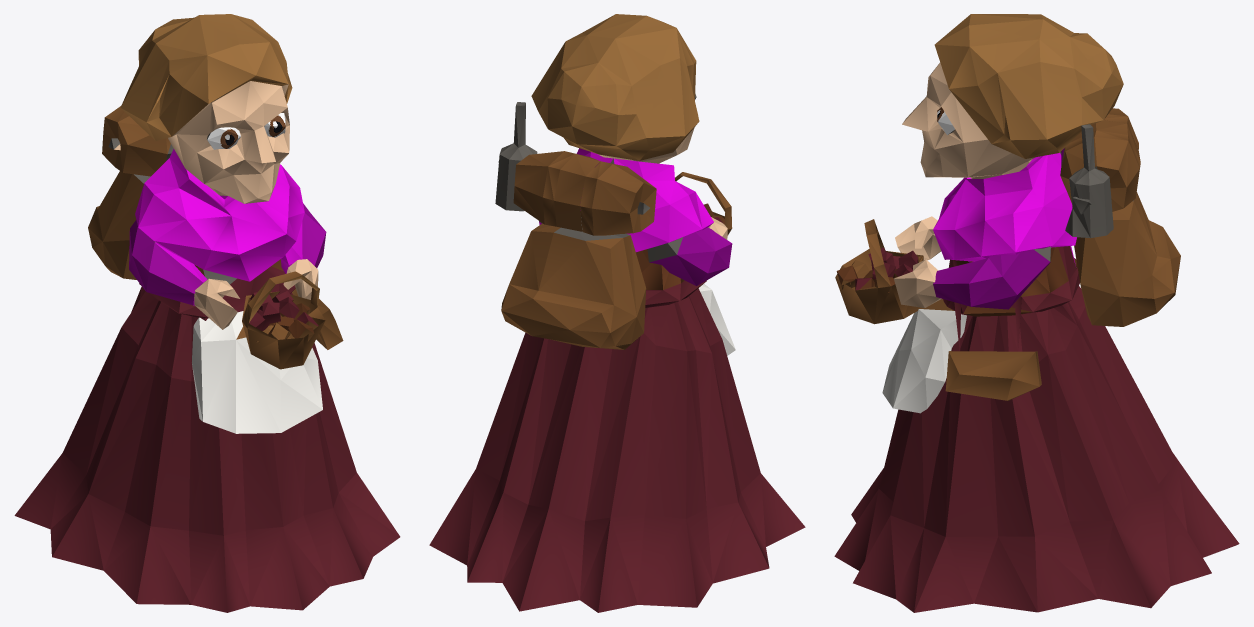
The model's file is castanyera-nova.glb.
The picture shows the model from 3 angles, left to right: view 1: azimuth 30°, elevation 25°; view 2: azimuth 150°, elevation 25°; view 3: azimuth 270°, elevation 25°; orthographic projection. The views are drawn at different scales.
Parts seen in each view (by area): view 1: castanyera; view 2: castanyera; view 3: castanyera.
Part boxes in pixels (<box>): castanyera: <box>14,14,400,612</box>; castanyera: <box>429,14,805,612</box>; castanyera: <box>834,14,1239,612</box>.
Size of the model in its own units: 1.12 by 1.8 by 1.23.
1 material, 1 textured.
